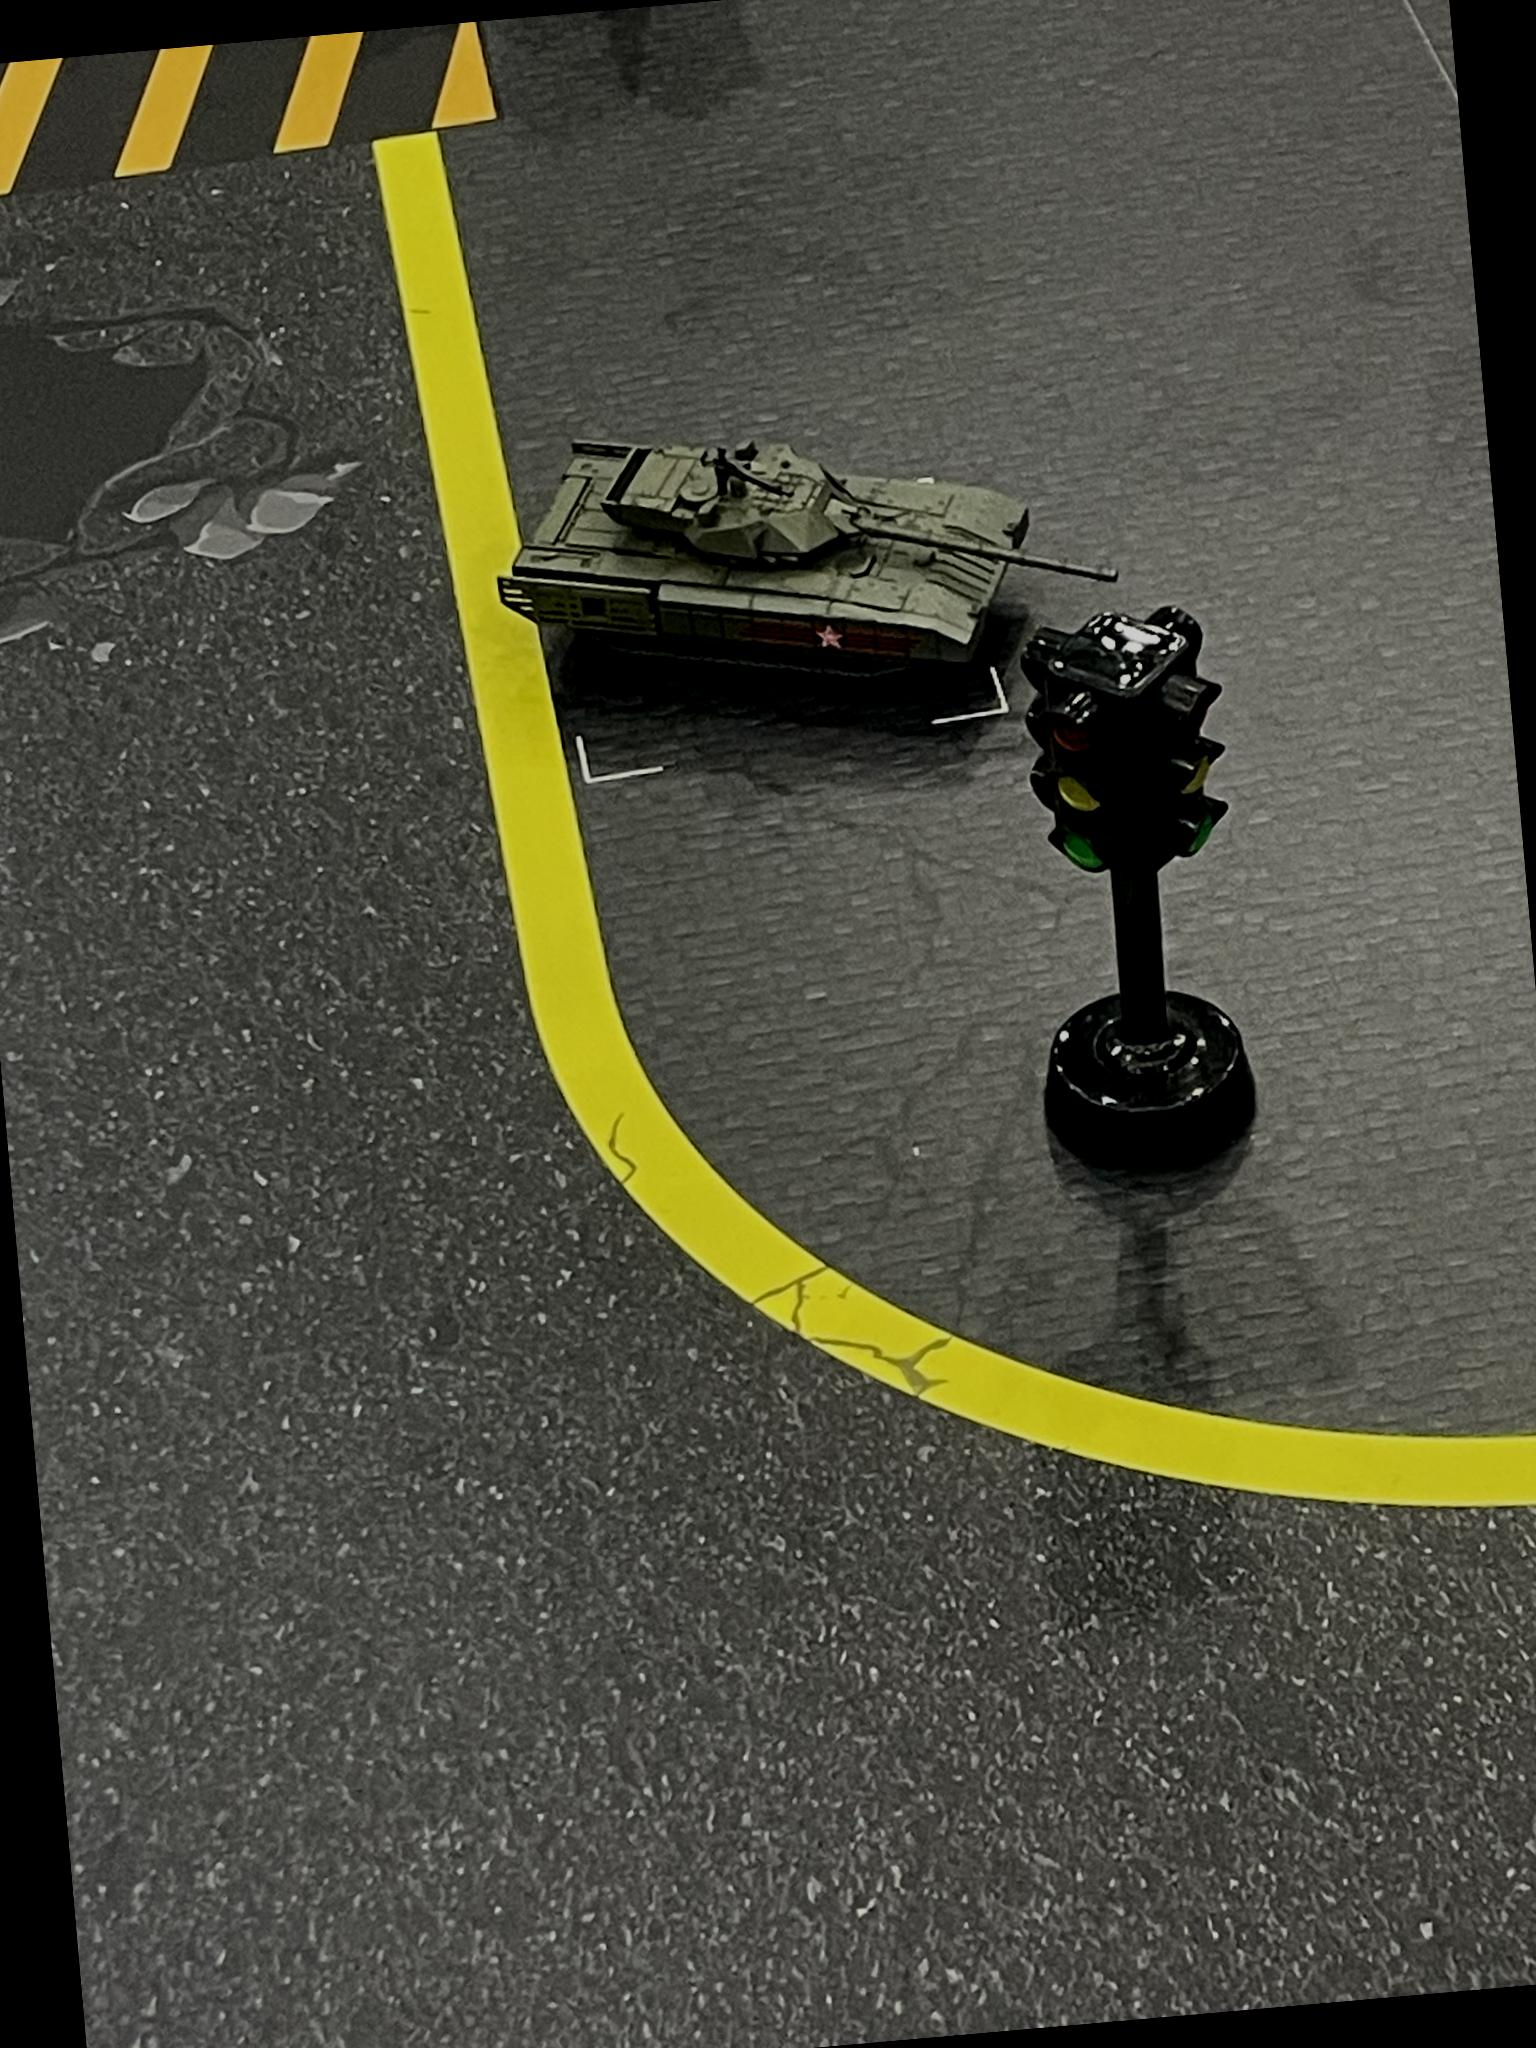Tank: (486, 377, 1131, 719)
